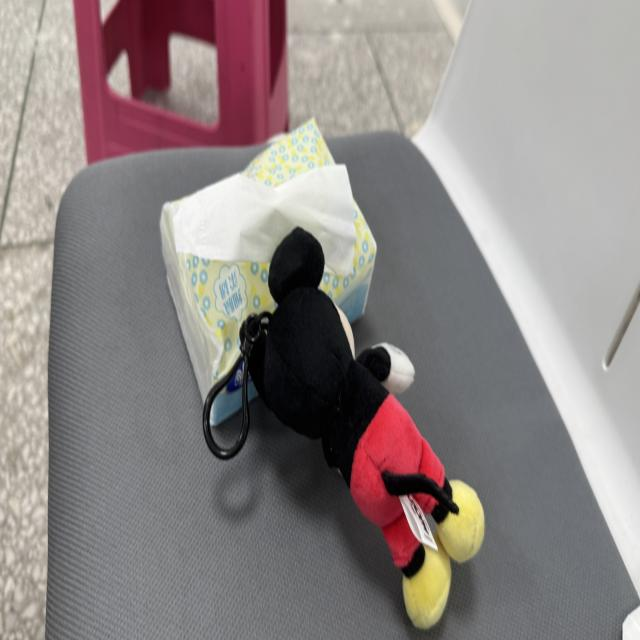mickey: (250, 228, 484, 628)
tissue: (161, 121, 376, 398), (173, 165, 356, 275)
